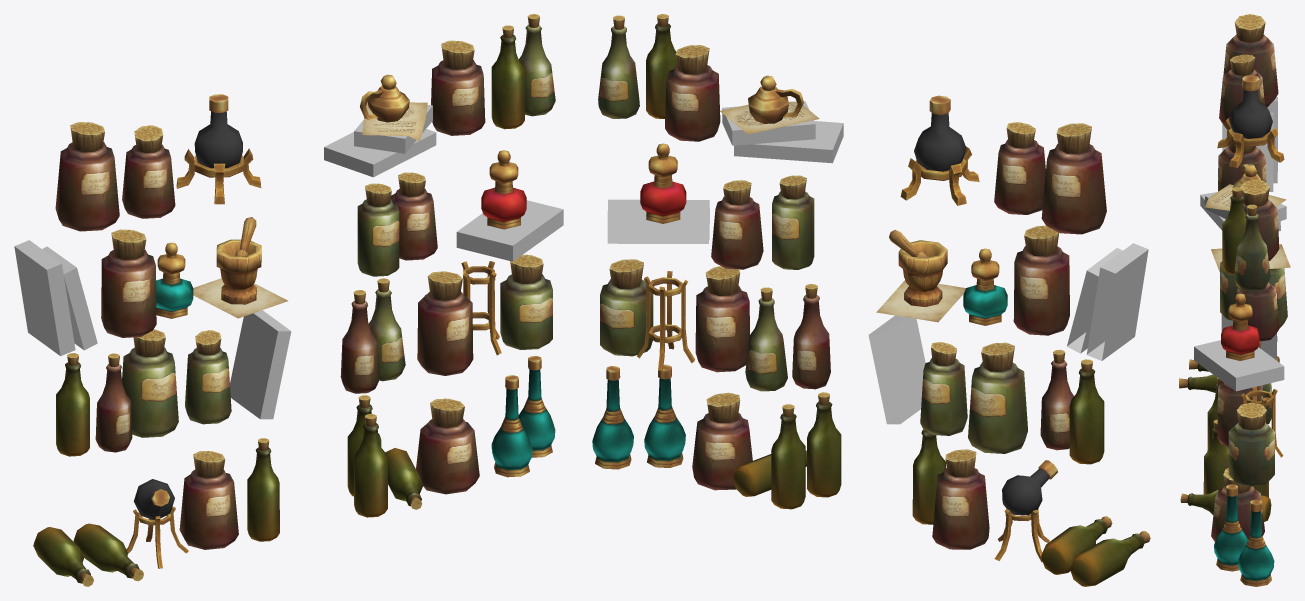
Rendered from Cupboard_Big_Preset_03.FBX.
3 renders of one model, left to right at view 1: azimuth 30°, elevation 25°; view 2: azimuth 150°, elevation 25°; view 3: azimuth 270°, elevation 25°, orthographic. The views are drawn at different scales.
Visible parts, largest first — view 1: Cupboard_Big_Preset_03; view 2: Cupboard_Big_Preset_03; view 3: Cupboard_Big_Preset_03.
Part boxes in pixels (left/top/right/bottom): Cupboard_Big_Preset_03: left=14, top=14, right=563, bottom=586; Cupboard_Big_Preset_03: left=592, top=14, right=1150, bottom=586; Cupboard_Big_Preset_03: left=1179, top=14, right=1290, bottom=586.
Size of the model in its own units: 280 by 60.26 by 224.
